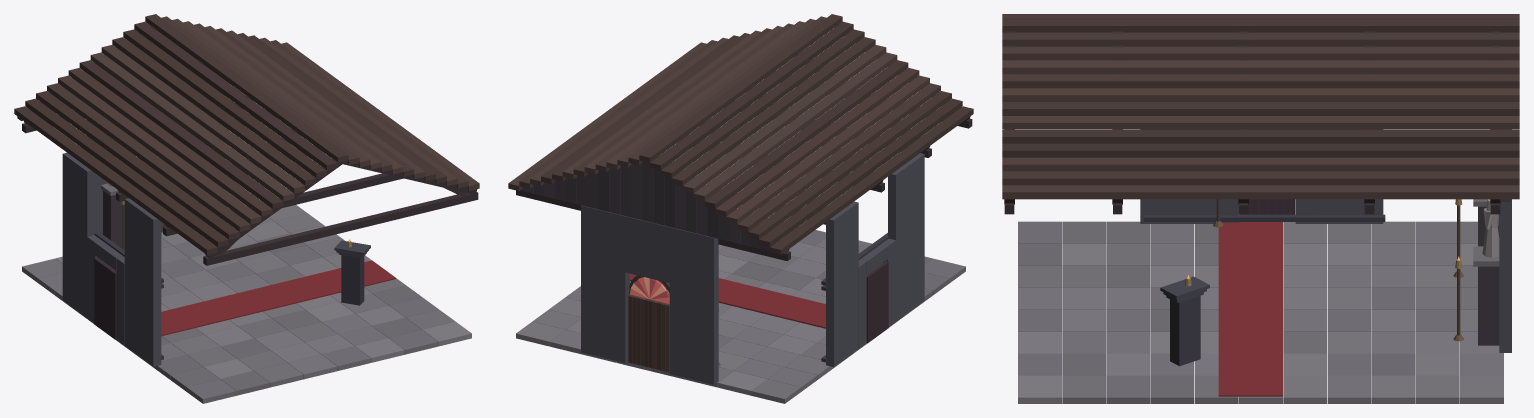
Rendered from ChapelShell.glb.
The picture shows the model from 3 angles, left to right: view 1: azimuth 30°, elevation 25°; view 2: azimuth 150°, elevation 25°; view 3: azimuth 270°, elevation 25°; orthographic projection. The views are drawn at different scales.
Visible parts, largest first — view 1: ChapelShell; view 2: ChapelShell; view 3: ChapelShell.
Part boxes in pixels (x1=…): ChapelShell: x1=14, y1=14, x2=479, y2=403; ChapelShell: x1=508, y1=14, x2=973, y2=403; ChapelShell: x1=1002, y1=14, x2=1519, y2=403.
Size of the model in its own units: 10.83 by 8.21 by 13.1.
